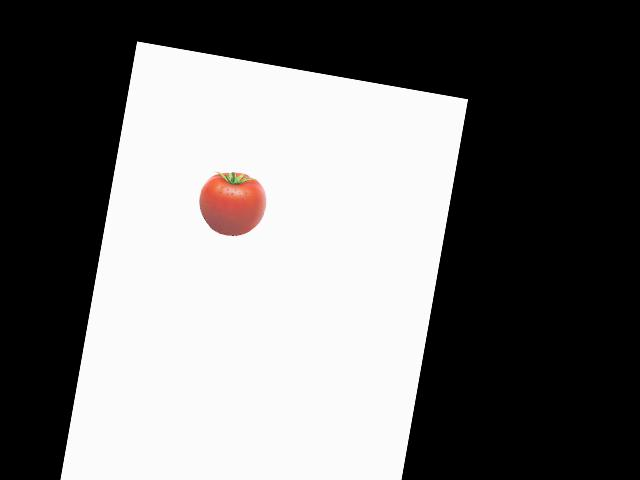tomato: (194, 166, 263, 239)
